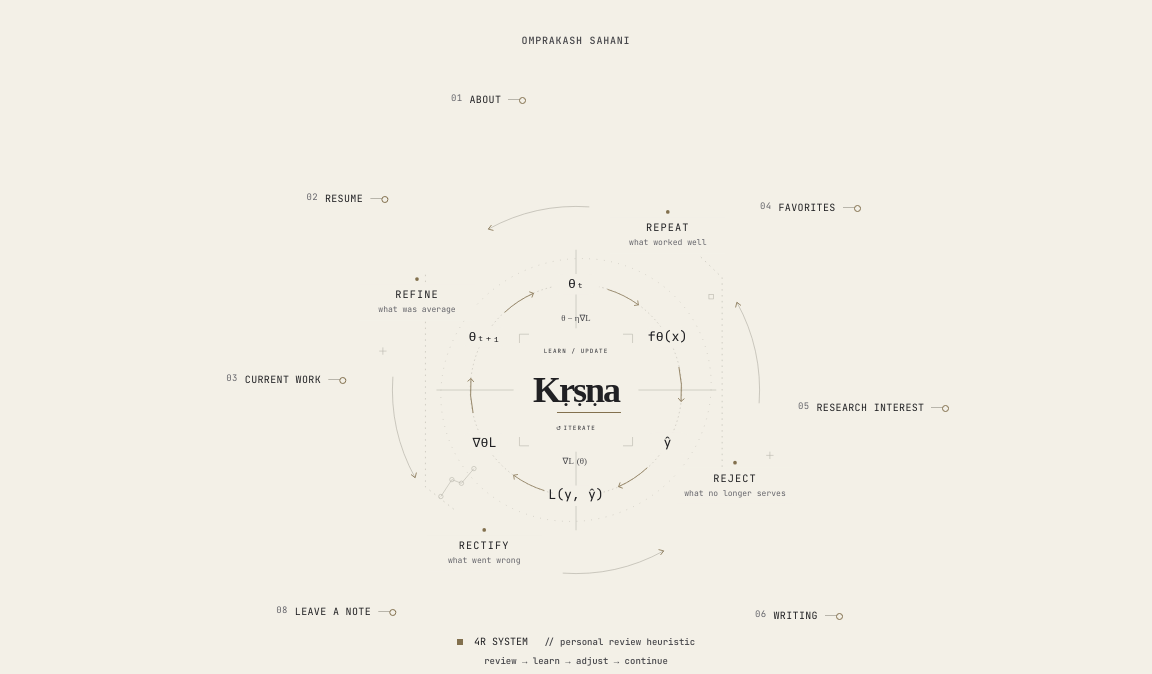
Test case: starts a fresh editable draft when reopening after success
Click the button "08 Leave a note": x=336, y=611 x1=276 y1=589 x2=396 y2=633
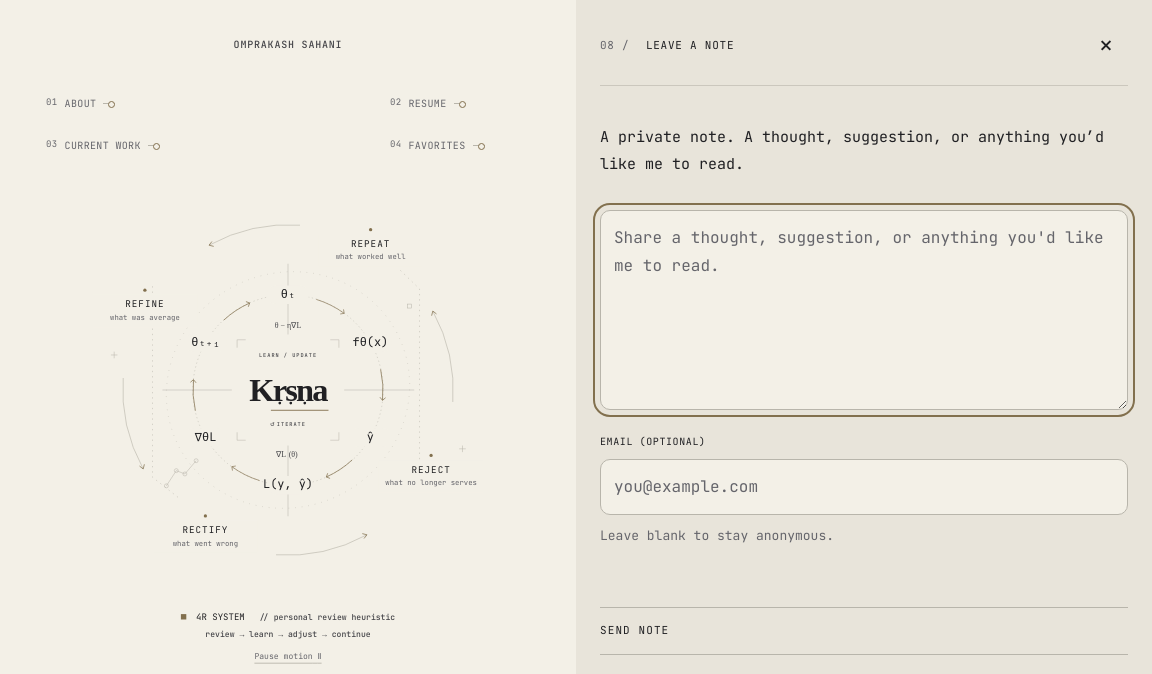
Replace the text in the text box named "Your note" with "Please keep this draft.": x=864, y=310 x1=600 y1=210 x2=1128 y2=410
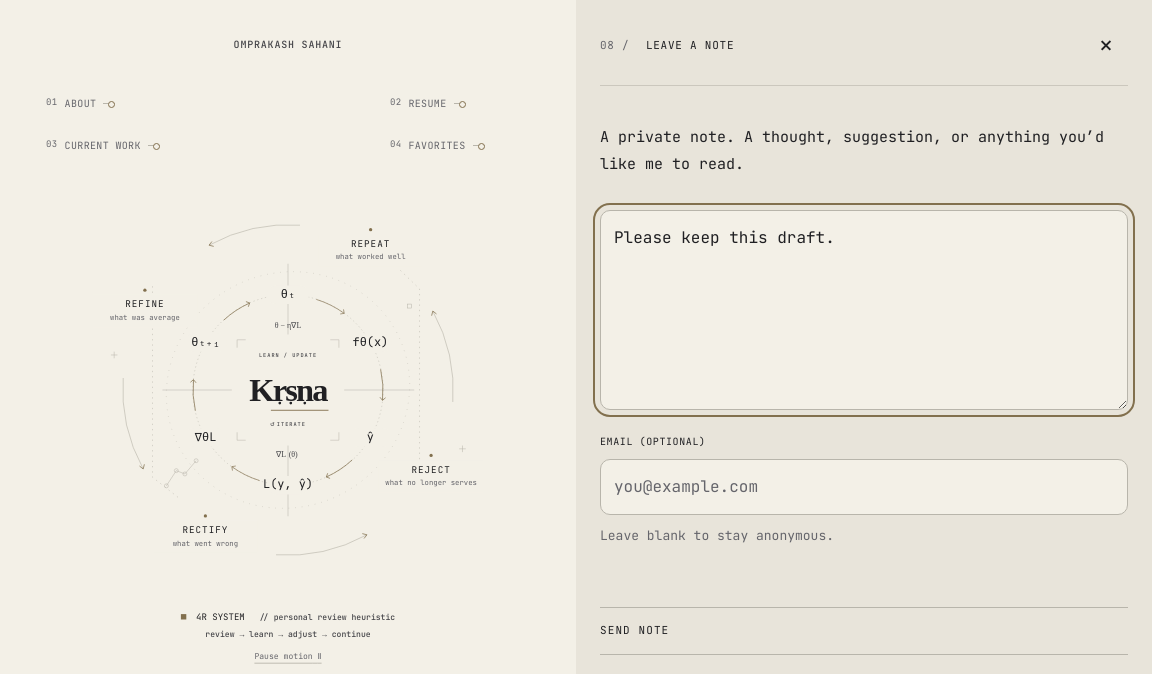
In the field labelled "EMAIL (OPTIONAL)": x=864, y=487 x1=600 y1=459 x2=1128 y2=515, type "visitor@example.test"
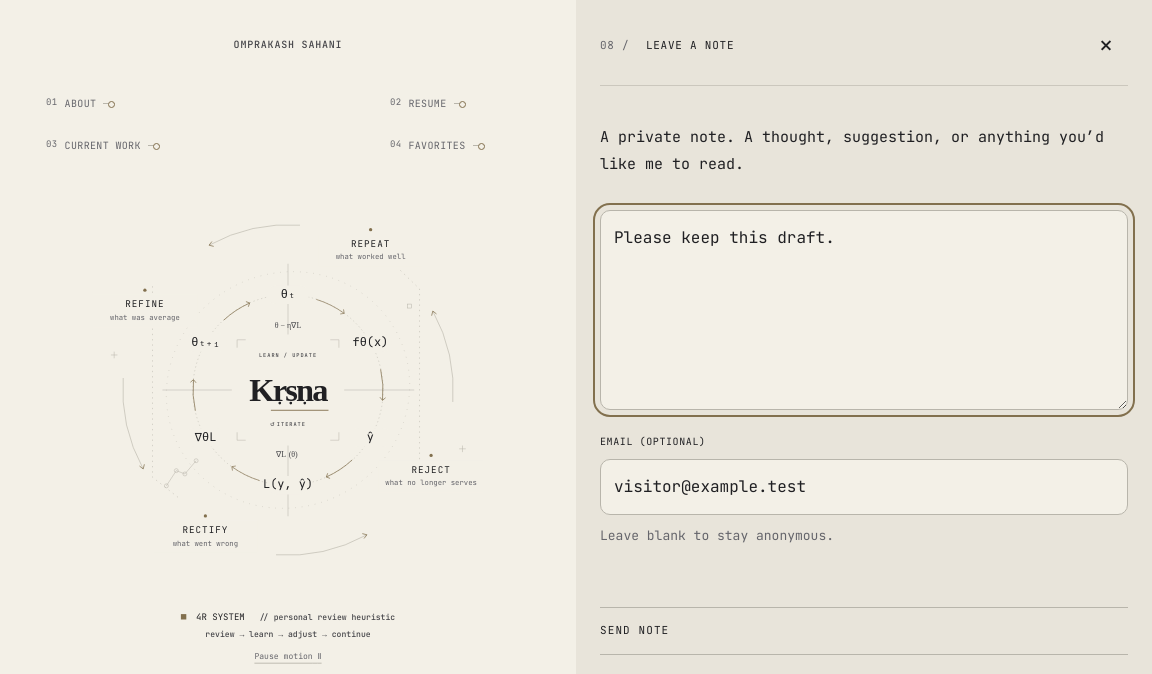
Click the button "SEND NOTE": x=635, y=630 x1=600 y1=607 x2=1128 y2=655
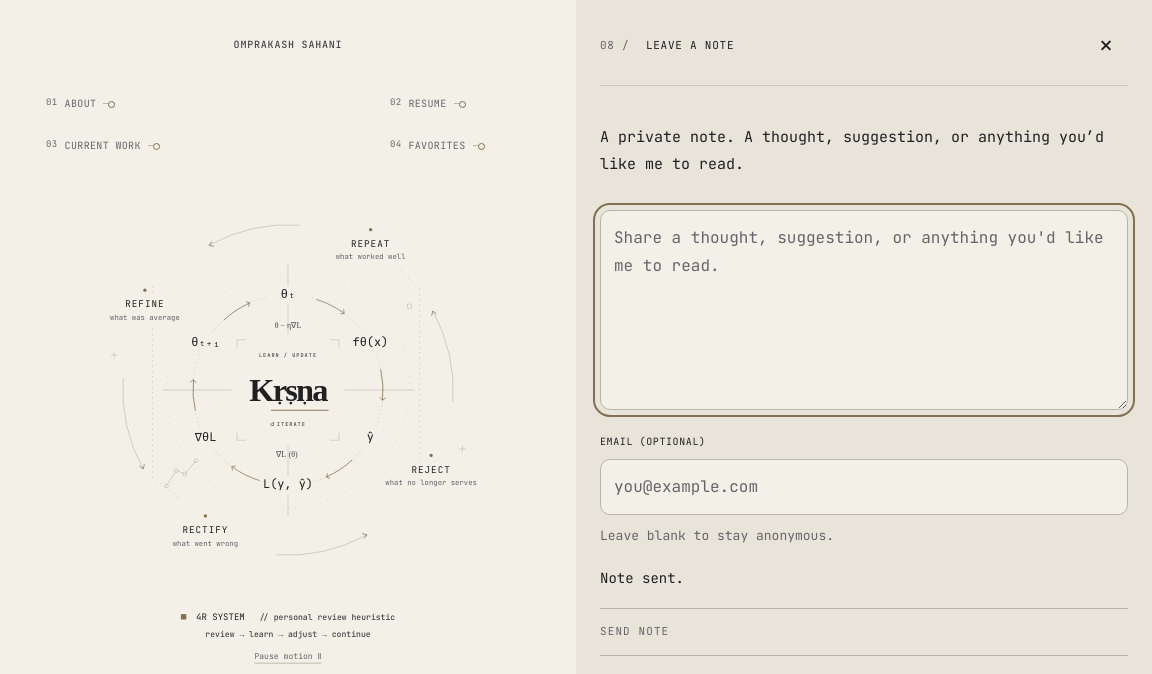
expect the message reads "Note sent.": met, box x1=600 y1=569 x2=684 y2=587
expect the button "SEND NOTE" is disabled: met, box x1=600 y1=608 x2=1128 y2=656
Submit the form, box x1=600 y1=210 x2=1128 y2=656
Click the button named "Close leave a note": x=1106, y=45 x1=1084 y1=23 x2=1128 y2=67
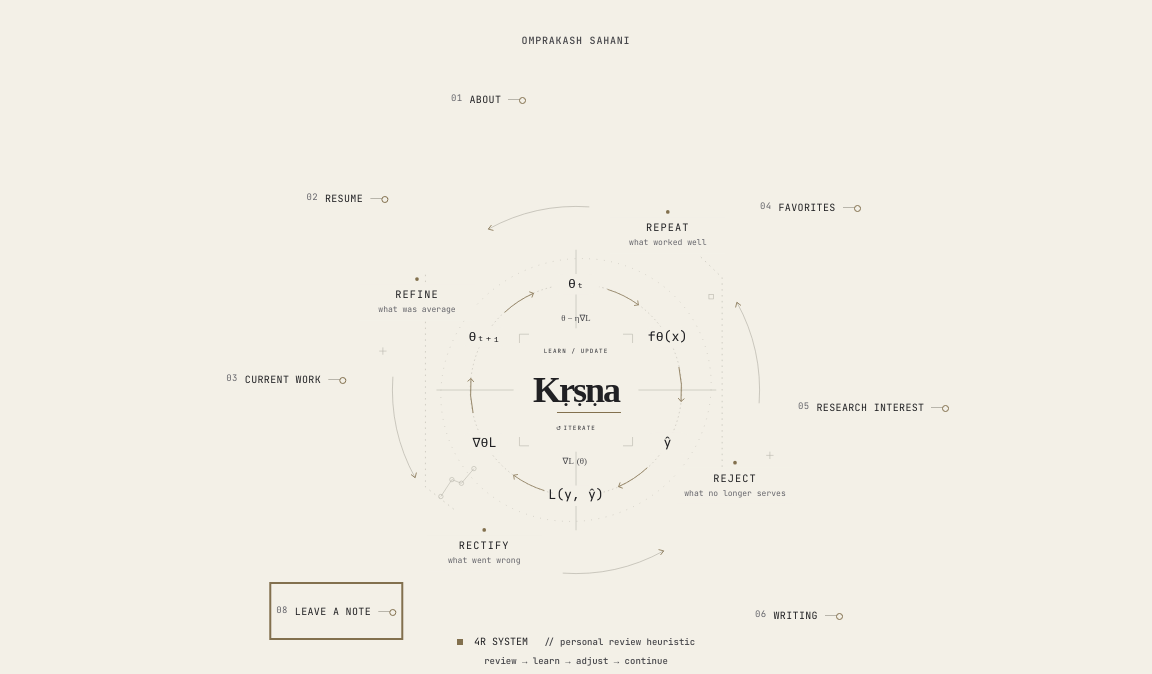
Click the button "08 Leave a note": x=336, y=611 x1=276 y1=589 x2=396 y2=633
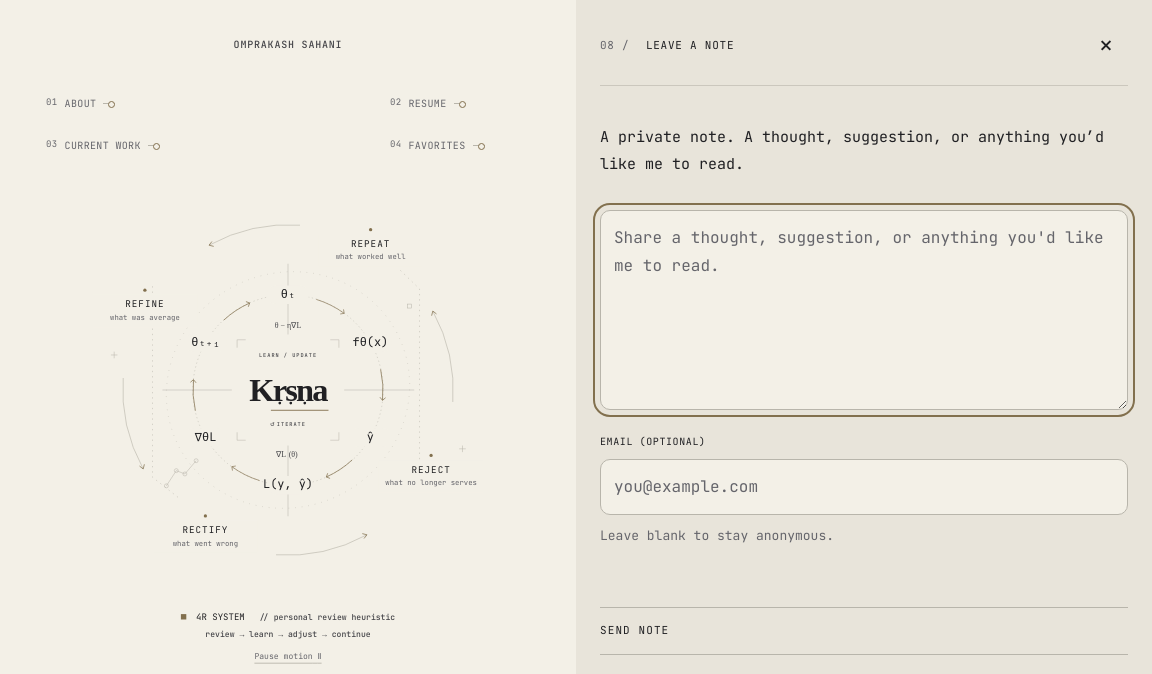
expect the text box named "Your note" is empty: met, box x1=600 y1=210 x2=1128 y2=410
expect the field labelled "EMAIL (OPTIONAL)" is empty: met, box x1=600 y1=459 x2=1128 y2=515
expect the button "SEND NOTE" is enabled: met, box x1=600 y1=607 x2=1128 y2=655
